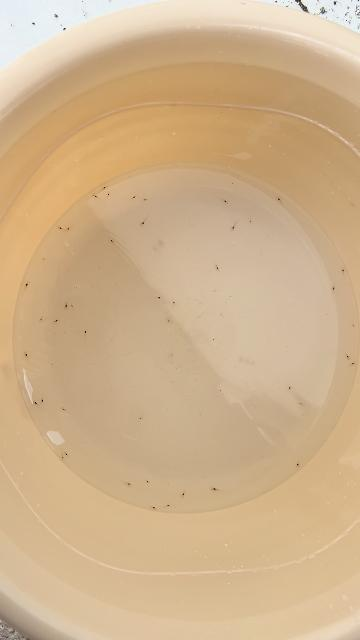benur: (138, 217, 146, 224), (38, 317, 44, 323), (288, 384, 294, 390), (132, 194, 137, 201), (25, 280, 30, 287), (64, 228, 70, 233), (108, 238, 114, 243), (158, 295, 163, 301), (172, 301, 177, 307), (83, 328, 88, 334), (55, 318, 61, 323), (23, 351, 29, 356), (32, 399, 37, 405), (127, 482, 133, 487), (180, 493, 185, 499), (346, 355, 351, 361), (341, 266, 346, 272), (166, 318, 172, 323), (211, 337, 216, 343), (103, 184, 108, 189), (92, 193, 97, 198), (60, 456, 65, 461), (167, 503, 172, 508), (211, 486, 216, 491), (295, 463, 300, 468), (276, 196, 281, 201), (224, 200, 229, 205), (40, 399, 44, 405), (65, 453, 71, 457), (300, 403, 306, 407), (230, 226, 234, 232), (142, 198, 147, 202), (57, 225, 62, 229), (64, 305, 68, 310), (70, 304, 74, 309), (61, 407, 66, 411), (146, 481, 151, 485), (153, 507, 158, 511), (352, 361, 356, 366), (332, 285, 336, 290), (212, 289, 216, 294), (216, 267, 220, 272), (107, 192, 111, 196), (41, 256, 45, 260), (139, 416, 143, 420), (352, 323, 355, 327), (250, 220, 252, 224)
